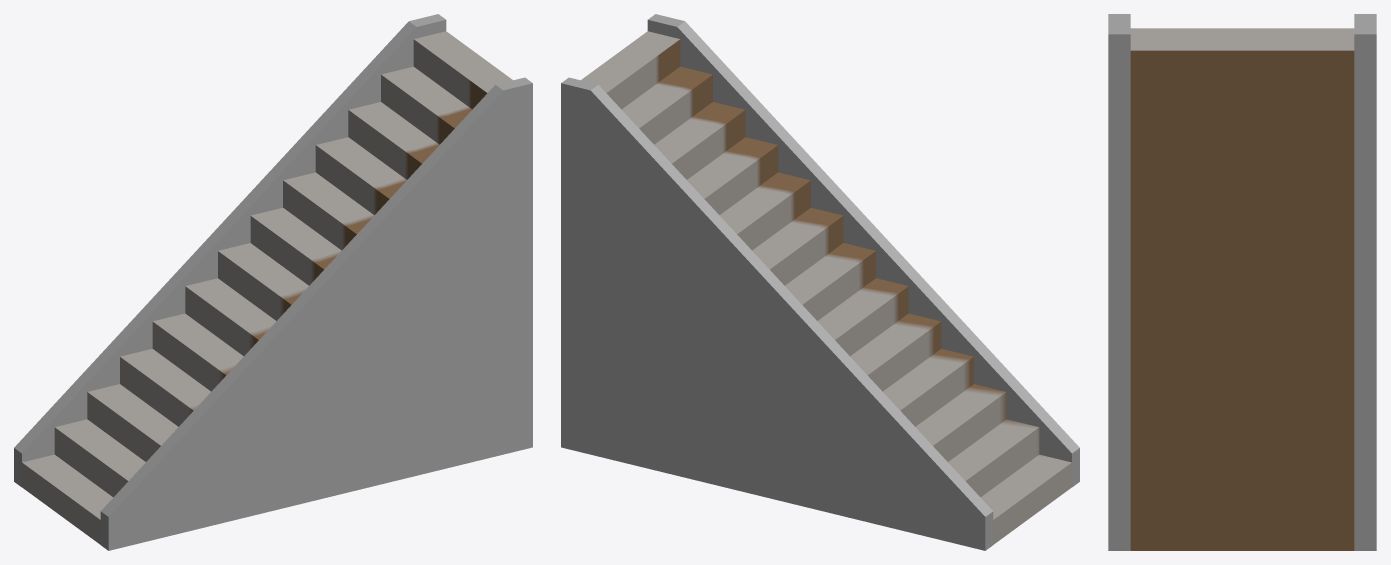
File: stairs (1).fbx
The picture shows the model from 3 angles, left to right: view 1: azimuth 30°, elevation 25°; view 2: azimuth 150°, elevation 25°; view 3: azimuth 270°, elevation 25°; orthographic projection. The views are drawn at different scales.
Parts seen in each view (by area): view 1: Stairs_03, Stairs_03.001, Stairs_03.013, Stairs_03.010, Stairs_03.005, Stairs_03.002, Stairs_03.008, Stairs_03.011, Stairs_03.003, Stairs_03.006, Stairs_03.009, Stairs_03.012 (+2 smaller); view 2: Stairs_03, Stairs_03.001, Stairs_03.013, Stairs_03.010, Stairs_03.005, Stairs_03.002, Stairs_03.008, Stairs_03.011, Stairs_03.003, Stairs_03.006, Stairs_03.009, Stairs_03.012 (+2 smaller); view 3: Stairs_03, Stairs_03.013.
Boxes of the visible parts, left/top/right/bottom form: Stairs_03: left=14, top=14, right=532, bottom=550; Stairs_03.001: left=22, top=454, right=112, bottom=544; Stairs_03.013: left=413, top=31, right=512, bottom=109; Stairs_03.010: left=315, top=137, right=406, bottom=214; Stairs_03.005: left=152, top=313, right=243, bottom=391; Stairs_03.002: left=54, top=419, right=145, bottom=497; Stairs_03.008: left=250, top=207, right=341, bottom=285; Stairs_03.011: left=348, top=102, right=439, bottom=179; Stairs_03.003: left=87, top=384, right=178, bottom=461; Stairs_03.006: left=185, top=278, right=276, bottom=355; Stairs_03.009: left=283, top=172, right=374, bottom=250; Stairs_03.012: left=381, top=66, right=472, bottom=144; Stairs_03: left=561, top=14, right=1079, bottom=550; Stairs_03.001: left=981, top=454, right=1071, bottom=544; Stairs_03.013: left=581, top=31, right=680, bottom=109; Stairs_03.010: left=687, top=137, right=778, bottom=214; Stairs_03.005: left=850, top=313, right=941, bottom=391; Stairs_03.002: left=948, top=419, right=1039, bottom=497; Stairs_03.008: left=752, top=207, right=843, bottom=285; Stairs_03.011: left=654, top=102, right=745, bottom=179; Stairs_03.003: left=915, top=384, right=1006, bottom=461; Stairs_03.006: left=817, top=278, right=908, bottom=355; Stairs_03.009: left=719, top=172, right=810, bottom=250; Stairs_03.012: left=621, top=66, right=712, bottom=144; Stairs_03: left=1108, top=14, right=1376, bottom=550; Stairs_03.013: left=1130, top=28, right=1354, bottom=50.
Size of the model in its own units: 315 by 258 by 121.
1 material, 1 textured.
